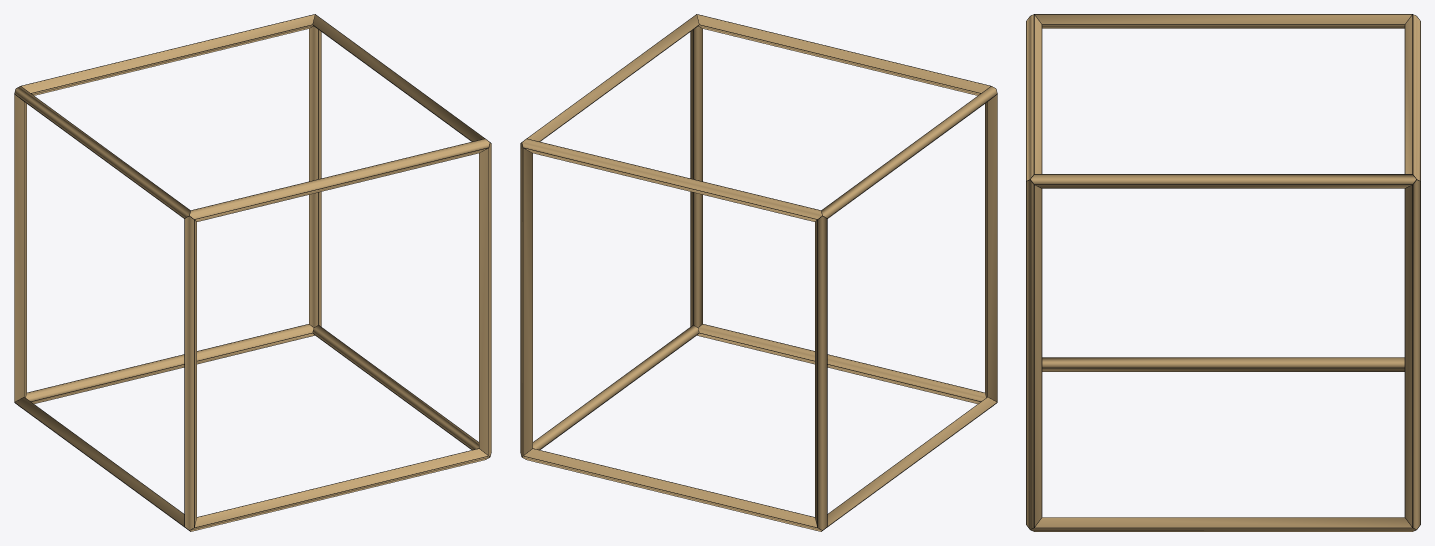
3 views of the same model, side by side, from view 1: azimuth 30°, elevation 25°; view 2: azimuth 150°, elevation 25°; view 3: azimuth 270°, elevation 25° (orthographic). The views are drawn at different scales.
Visible parts, largest first — view 1: arete-Z1, arete-Z2, arete-X2, arete-X0, arete-X3, arete-Z0, arete-Z3, arete-X1, arete-Y2, arete-Y0, arete-Y3, arete-Y1 (+8 smaller); view 2: arete-Z3, arete-Z0, arete-X3, arete-X1, arete-X2, arete-Z2, arete-Z1, arete-X0, arete-Y2, arete-Y0, arete-Y3, arete-Y1 (+8 smaller); view 3: arete-Y3, arete-Y1, arete-Y2, arete-Z1, arete-Z3, arete-Y0, arete-X2, arete-X3, arete-wire-Z1, arete-wire-Z3, arete-wire-Y1, arete-wire-Y0 (+4 smaller).
Part boxes in pixels (bbox=[...]): arete-Z1: bbox=[479, 143, 491, 456]; arete-Z2: bbox=[14, 95, 26, 401]; arete-X2: bbox=[190, 139, 489, 221]; arete-X0: bbox=[190, 449, 489, 531]; arete-X3: bbox=[21, 14, 314, 95]; arete-Z0: bbox=[185, 216, 196, 529]; arete-Z3: bbox=[309, 26, 321, 327]; arete-X1: bbox=[26, 324, 314, 403]; arete-Y2: bbox=[15, 86, 190, 217]; arete-Y0: bbox=[15, 397, 184, 526]; arete-Y3: bbox=[313, 15, 484, 141]; arete-Y1: bbox=[313, 325, 478, 449]; arete-Z3: bbox=[520, 143, 532, 456]; arete-Z0: bbox=[985, 95, 997, 401]; arete-X3: bbox=[522, 139, 821, 221]; arete-X1: bbox=[522, 449, 821, 531]; arete-X2: bbox=[697, 14, 990, 95]; arete-Z2: bbox=[815, 216, 826, 529]; arete-Z1: bbox=[690, 26, 702, 327]; arete-X0: bbox=[697, 324, 985, 403]; arete-Y2: bbox=[821, 86, 996, 217]; arete-Y0: bbox=[827, 397, 996, 526]; arete-Y3: bbox=[527, 15, 698, 141]; arete-Y1: bbox=[533, 325, 698, 449]; arete-Y3: bbox=[1031, 174, 1415, 188]; arete-Y1: bbox=[1031, 517, 1415, 531]; arete-Y2: bbox=[1035, 14, 1411, 28]; arete-Z1: bbox=[1026, 180, 1041, 529]; arete-Z3: bbox=[1405, 180, 1420, 529]; arete-Y0: bbox=[1042, 357, 1404, 371]; arete-X2: bbox=[1026, 15, 1041, 180]; arete-X3: bbox=[1405, 15, 1420, 180]; arete-wire-Z1: bbox=[1026, 179, 1042, 527]; arete-wire-Z3: bbox=[1404, 181, 1420, 527]; arete-wire-Y1: bbox=[1030, 517, 1416, 531]; arete-wire-Y0: bbox=[1042, 357, 1404, 371].
Bounding box in the file's own units: 1.43 × 1.43 × 1.43.
